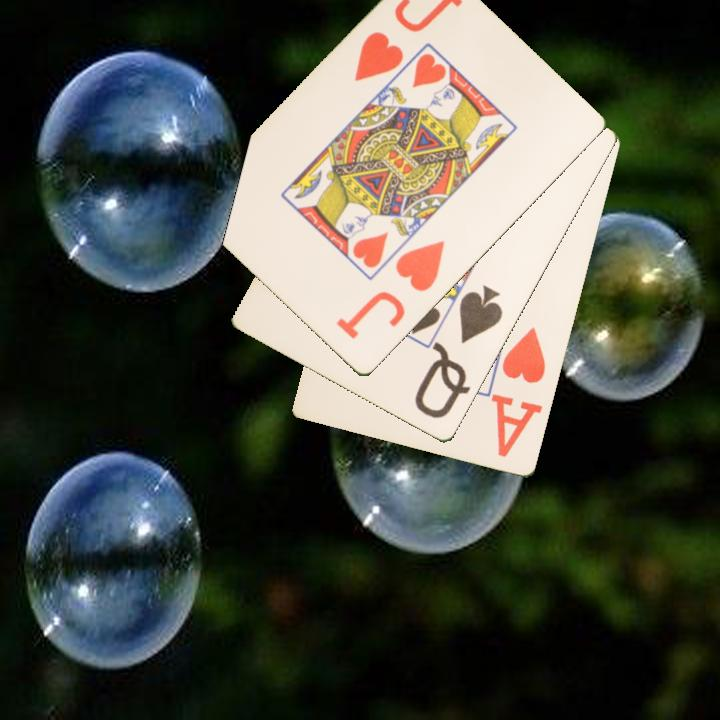Ah: (489, 324, 549, 461)
Jh: (332, 237, 448, 343), (350, 28, 407, 85)
Qs: (411, 283, 507, 422)
